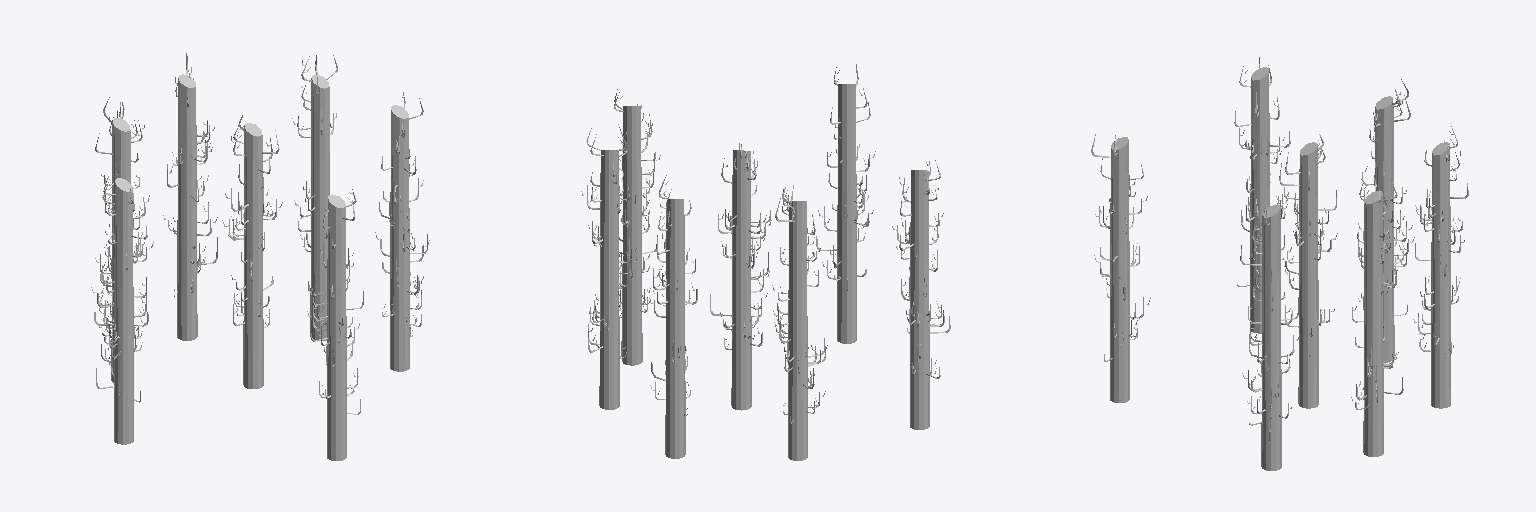
File: Ross128bTrees1.obj
3 views of the same model, side by side, from view 1: azimuth 30°, elevation 25°; view 2: azimuth 150°, elevation 25°; view 3: azimuth 270°, elevation 25° (orthographic).
Parts seen in each view (by area): view 1: Tree.005_Cylinder.010; view 2: Tree.005_Cylinder.010; view 3: Tree.005_Cylinder.010.
Part boxes in pixels (x1,y1,x2,y2): Tree.005_Cylinder.010: (91, 53, 429, 460); Tree.005_Cylinder.010: (581, 64, 950, 460); Tree.005_Cylinder.010: (1091, 57, 1468, 470).
Size of the model in its own units: 37.13 by 30.43 by 36.59.